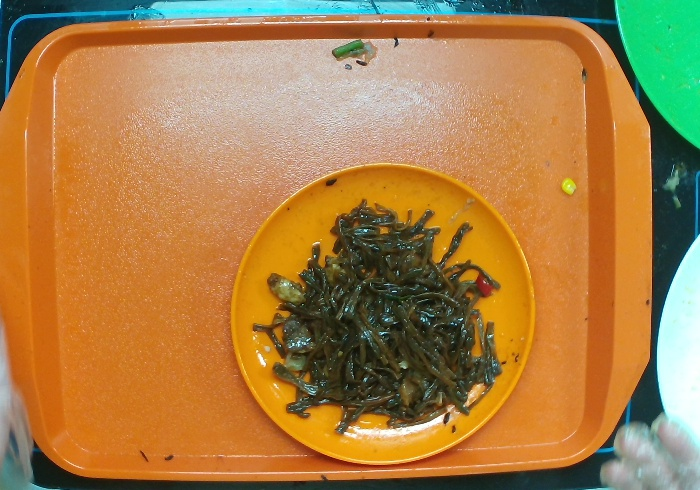HZYJPL-Ju_Huang_Yuan_Pan: (221, 157, 544, 478)
